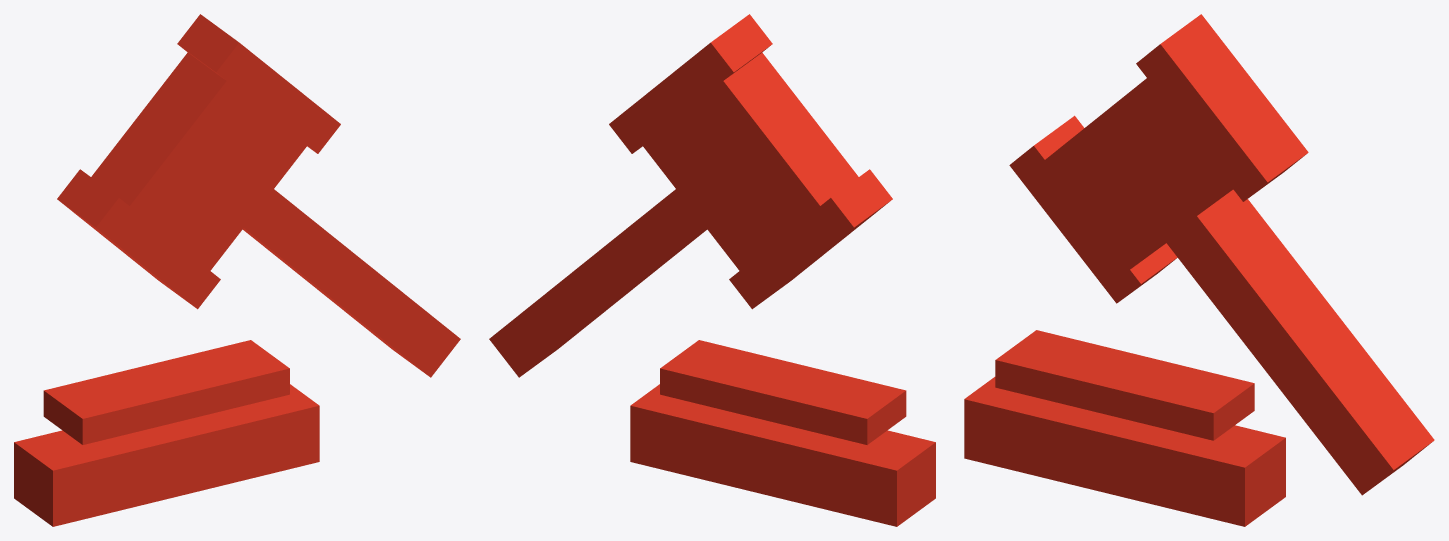
The model's file is Icon_Auction.fbx.
3 renders of one model, left to right at view 1: azimuth 30°, elevation 25°; view 2: azimuth 150°, elevation 25°; view 3: azimuth 330°, elevation 25°, orthographic. The views are drawn at different scales.
Visible parts, largest first — view 1: Icon_Auction; view 2: Icon_Auction; view 3: Icon_Auction.
Part boxes in pixels (box(x1,y1,x2,y2)): Icon_Auction: box(14, 14, 460, 526); Icon_Auction: box(489, 14, 935, 526); Icon_Auction: box(964, 14, 1434, 526).
Size of the model in its own units: 72.93 by 75 by 12.06.
